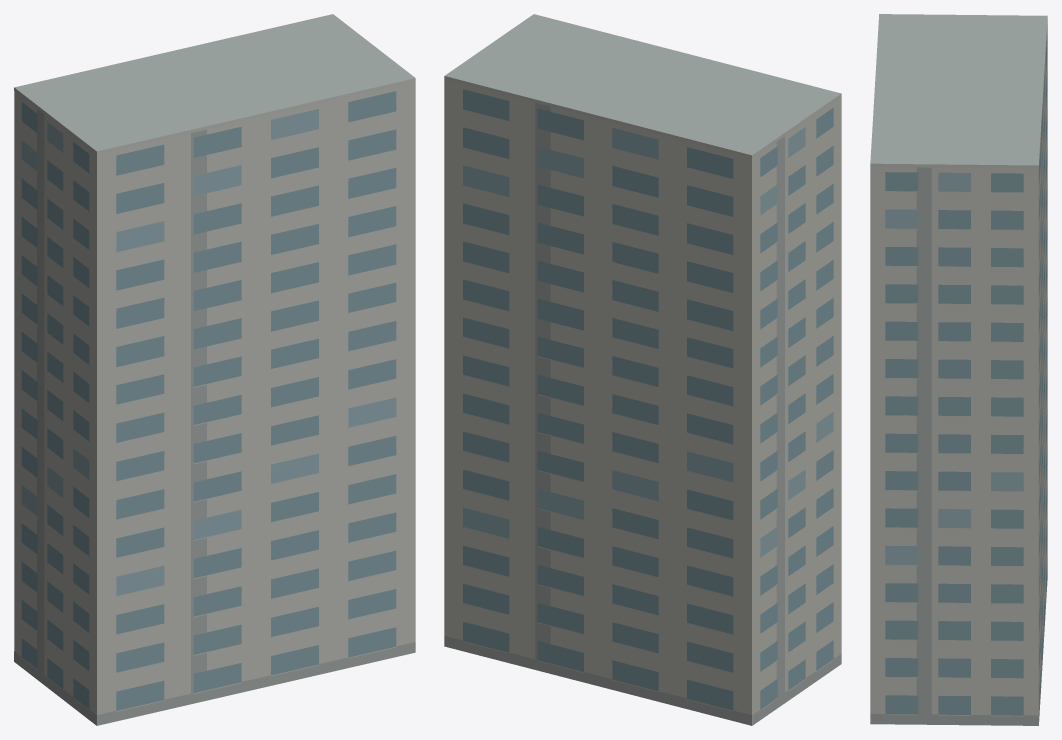
Rendered from residential-0d49b705-0354-44b7-a654-6da1c626de41.glb.
The picture shows the model from 3 angles, left to right: view 1: azimuth 30°, elevation 25°; view 2: azimuth 150°, elevation 25°; view 3: azimuth 270°, elevation 25°; orthographic projection. The views are drawn at different scales.
Visible parts, largest first — view 1: residential-0d49b705-0354-44b7-a654-6da1c626de41.tmp; view 2: residential-0d49b705-0354-44b7-a654-6da1c626de41.tmp; view 3: residential-0d49b705-0354-44b7-a654-6da1c626de41.tmp.
Boxes of the visible parts, bbox=[...] form: residential-0d49b705-0354-44b7-a654-6da1c626de41.tmp: bbox=[14, 14, 415, 725]; residential-0d49b705-0354-44b7-a654-6da1c626de41.tmp: bbox=[444, 14, 841, 725]; residential-0d49b705-0354-44b7-a654-6da1c626de41.tmp: bbox=[870, 14, 1047, 725].
Size of the model in its own units: 24.35 by 42 by 12.06.
